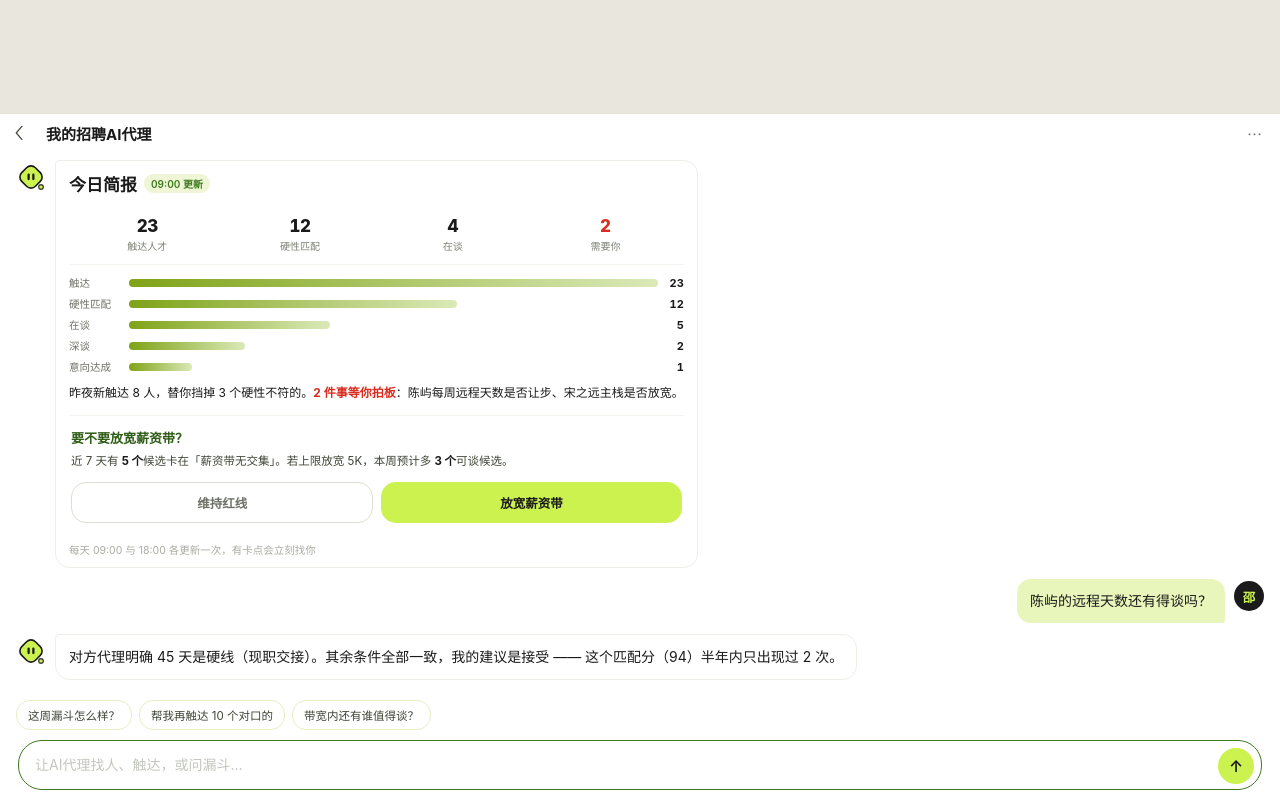
企业问AI代理 · Mock 原型保持与定时器隔离 › Mock 维持红线是零规则 mutation：不派发、不跳转，容器送文案后才换确认行
This screenshot has width=1280, height=800.
(page scrolled)
Step 1. Click the button "维持红线" → [222, 503], box [71,482,373,523]
(page scrolled)
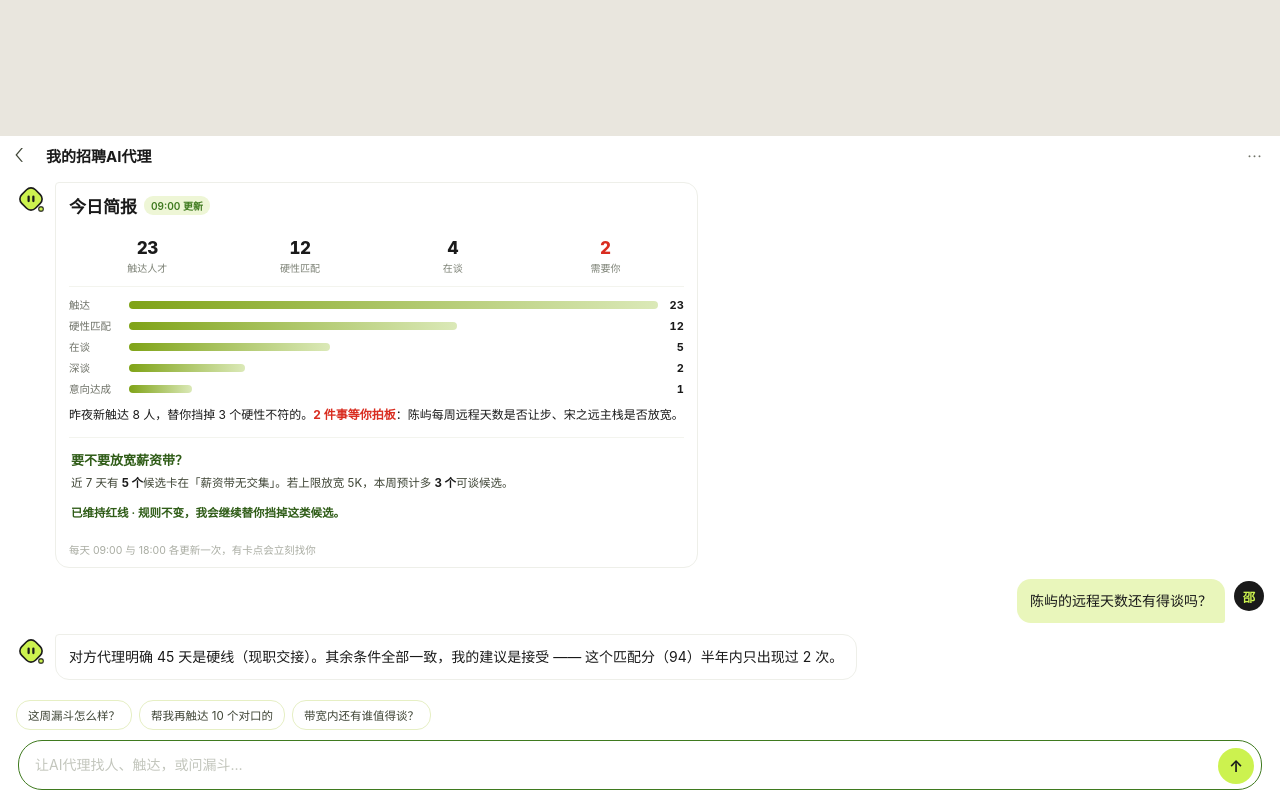
Check: the text "已维持红线 · 规则不变，我会继续替你挡掉这类候选。" is shown, box [71,506,345,520]
